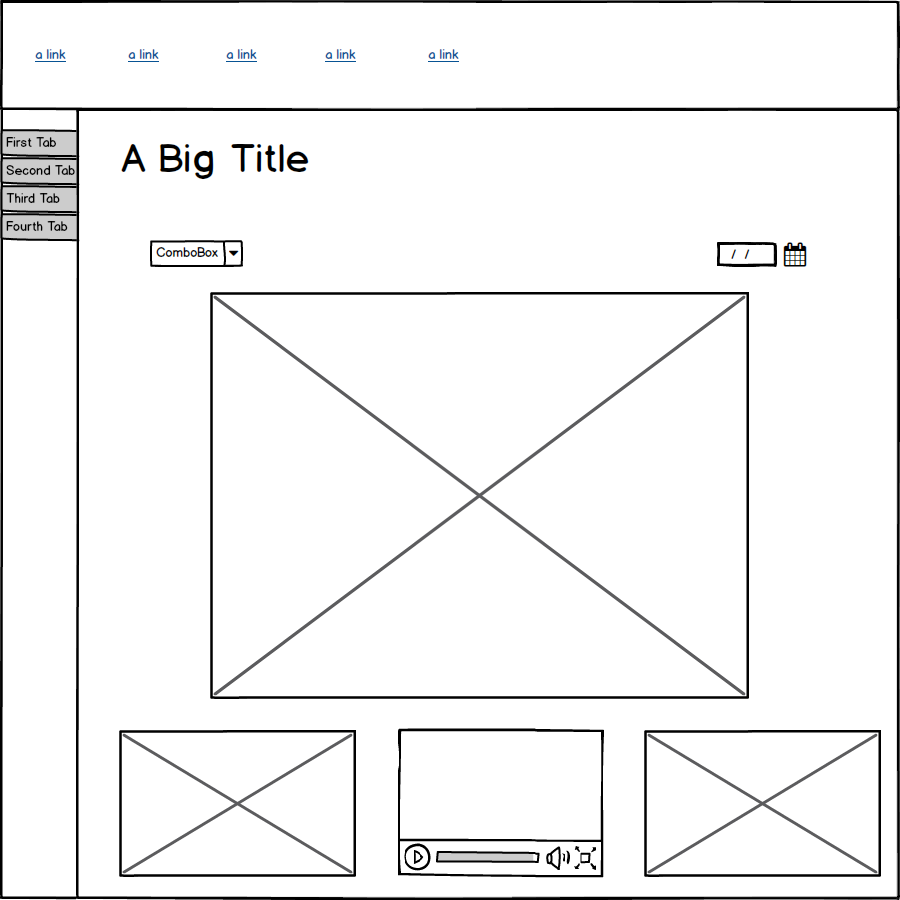date_picker: (709, 234, 819, 277)
h1: (111, 138, 315, 184)
image: (198, 285, 755, 706), (637, 722, 887, 885), (113, 726, 357, 882)
navlink: (209, 37, 270, 67), (319, 38, 370, 70), (26, 43, 76, 71), (418, 43, 468, 70), (124, 43, 163, 69)
select_box: (144, 236, 250, 275)
sidebar: (2, 123, 83, 245)
video: (392, 725, 607, 881)
